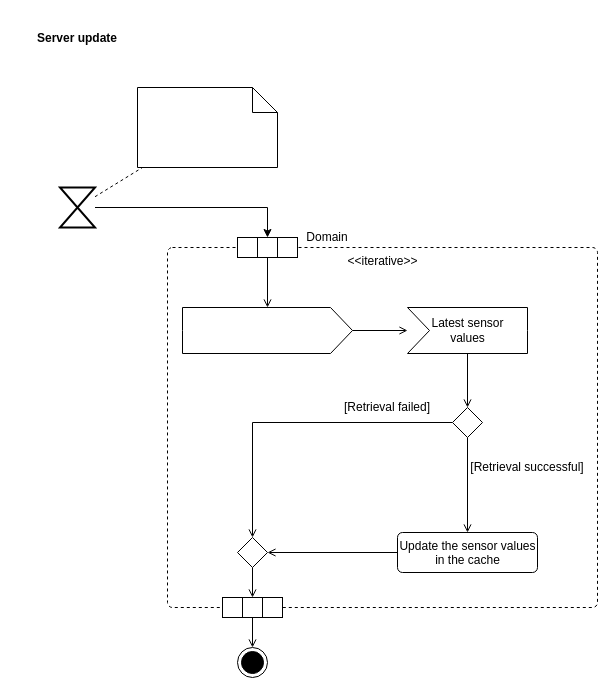
This 615x695 diagram has some shape labels left out. The box of each missing label's shape, as (x1, y1, x2, y2) in pixels:
Set of sensorIds in the current domain: (182, 306, 352, 354)
Triggert by the timer created in the server startup: (136, 86, 278, 168)
